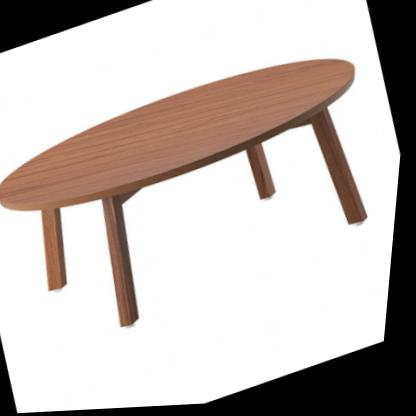Table: (0, 26, 413, 371)
